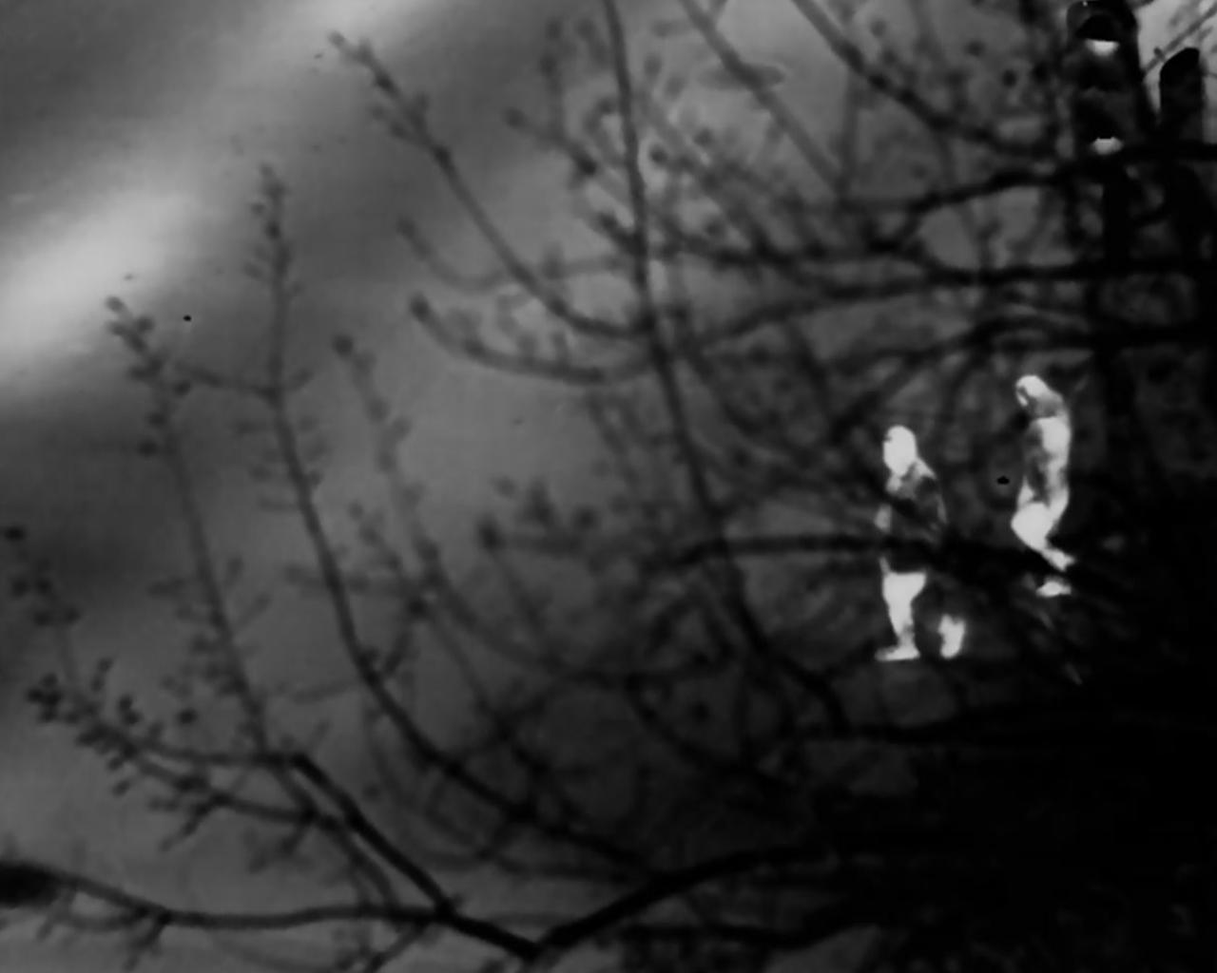person: (861, 423, 972, 669), (1003, 369, 1090, 575)
